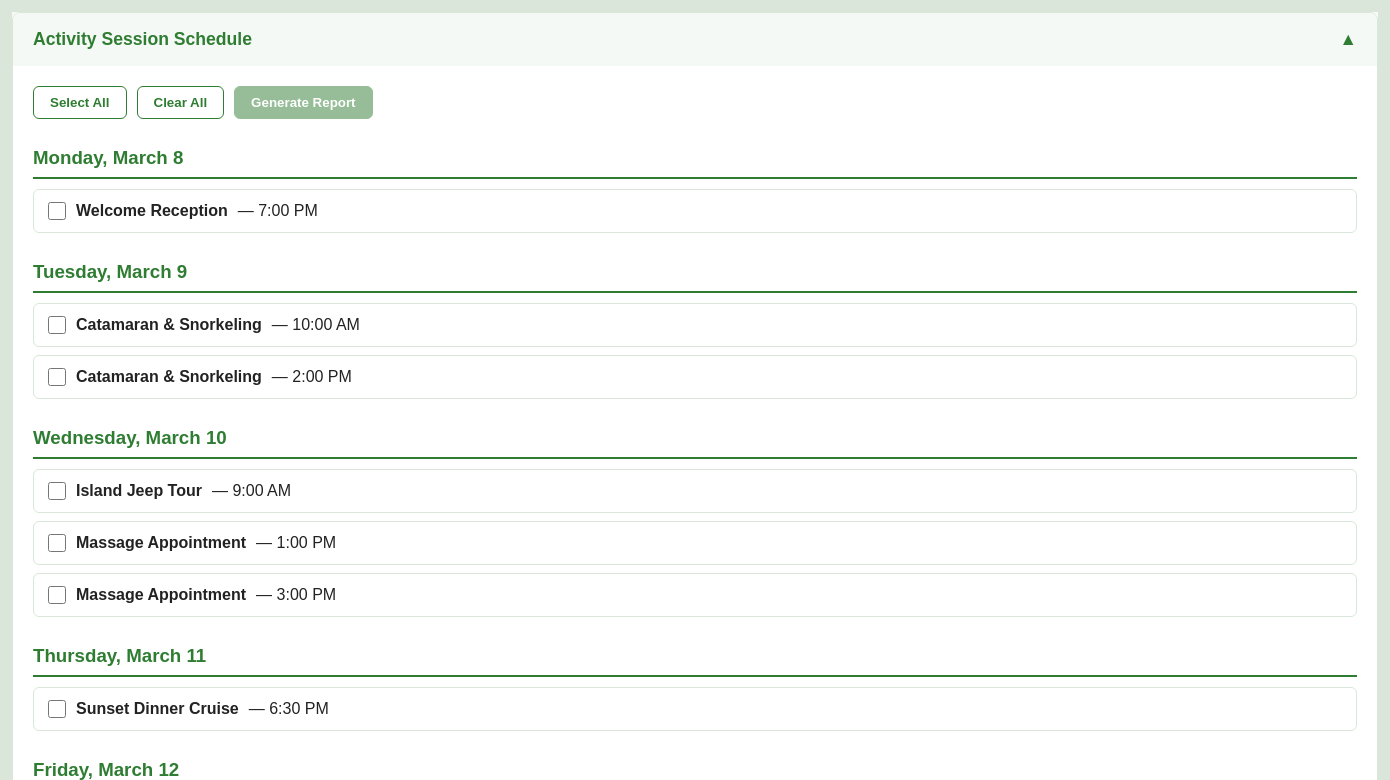
Test: ActivitySessionReportBuilder › enables Generate Report when a session is selected
expect the button "Generate Report" is disabled: met, box [234,86,372,119]
Click the checkbox labelled "Welcome Reception — 7:00 PM".
click(57, 211)  # box [48,202,66,220]
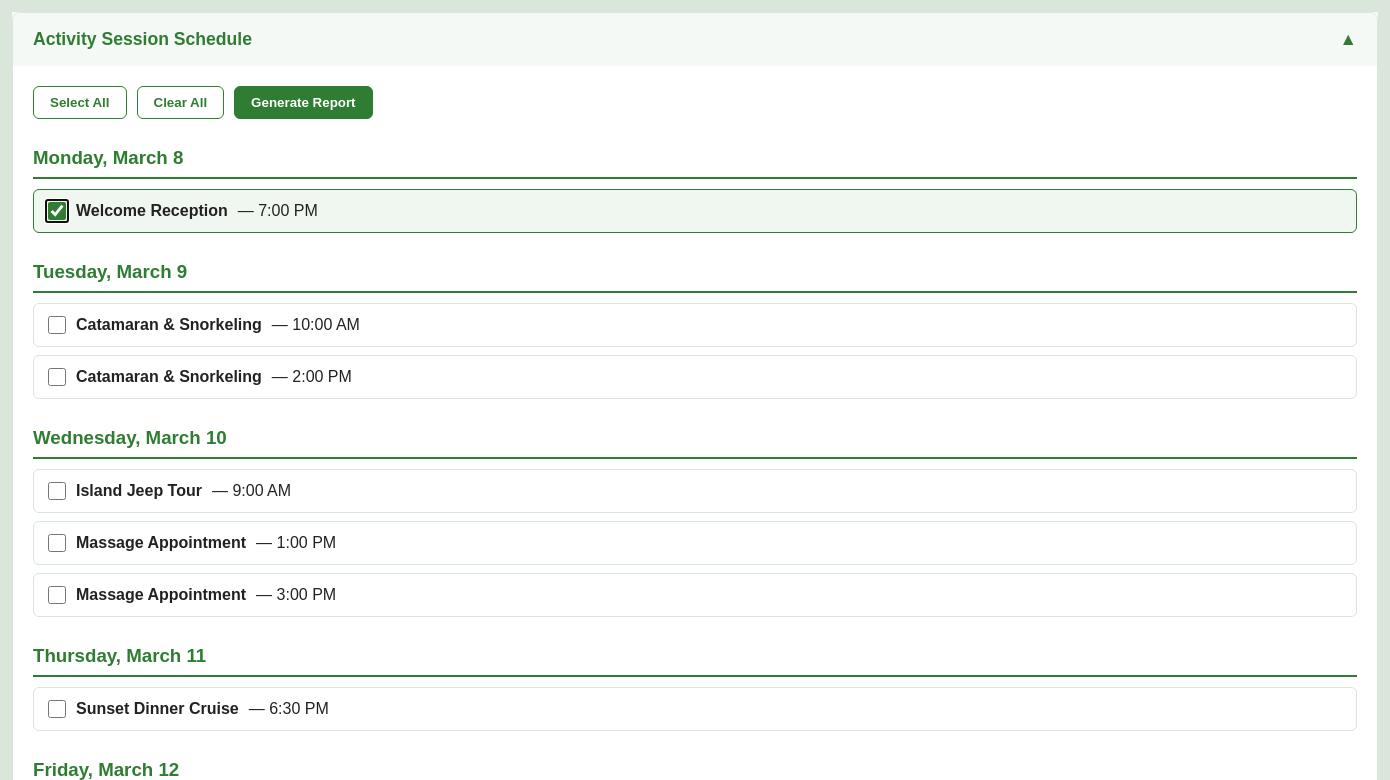
expect the checkbox labelled "Welcome Reception — 7:00 PM" is checked: met, box [48,202,66,220]
expect the button "Generate Report" is enabled: met, box [234,86,372,119]
